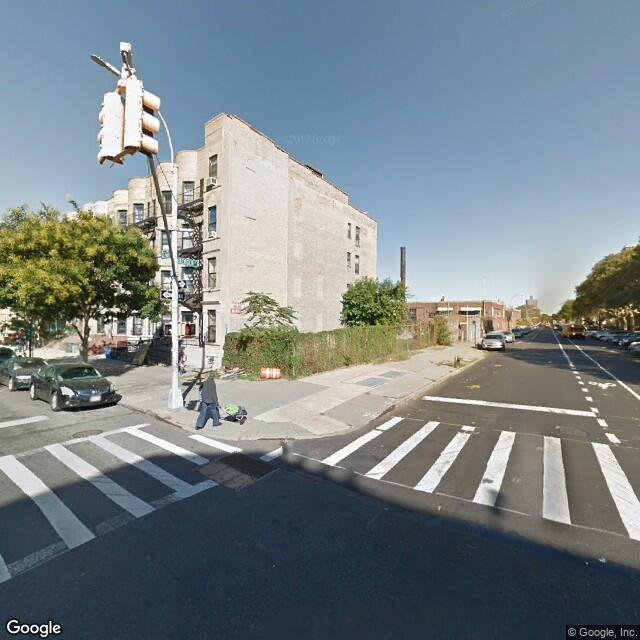litter: (437, 503, 441, 510), (600, 558, 606, 561)
